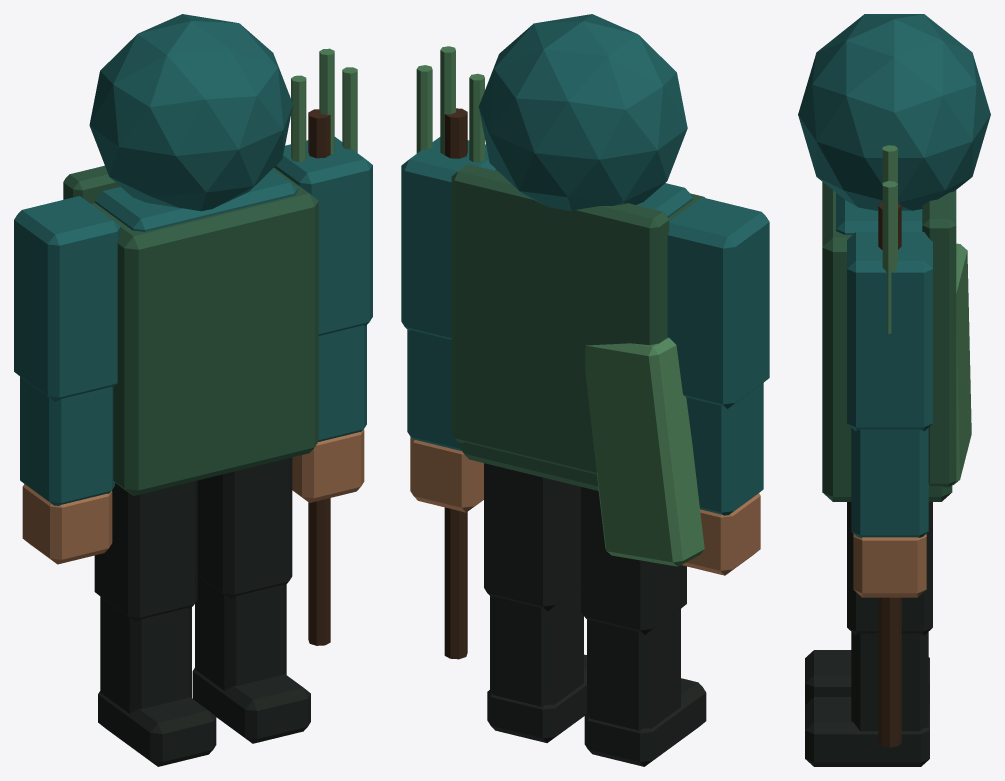
File: SellaGlowmereKeeper.glb
3 renders of one model, left to right at view 1: azimuth 30°, elevation 25°; view 2: azimuth 150°, elevation 25°; view 3: azimuth 270°, elevation 25°, orthographic. The views are drawn at different scales.
Visible parts, largest first — view 1: UpperTorso_Tunic, Head_Hood, LeftUpperArm, LeftUpperLeg, RightUpperLeg, RightUpperArm, LeftLowerArm, LeftLowerLeg, RightLowerLeg, LeftFoot, RightFoot, LeftHand (+8 smaller); view 2: UpperTorso_WetlandCape, Head_Hood, LowerTorso_ReedBundle, LeftUpperArm, RightUpperLeg, RightUpperArm, LeftLowerLeg, RightLowerLeg, LeftUpperLeg, LeftLowerArm, RightLowerArm, RightHand_ReedStaff (+9 smaller); view 3: Head_Hood, RightUpperArm, RightLowerArm, UpperTorso_Tunic, UpperTorso_WetlandCape, RightFoot, RightLowerLeg, RightHand, RightHand_ReedStaff, RightUpperLeg, LowerTorso_ReedBundle, LeftFoot (+3 smaller).
Part boxes in pixels (x1,y1,x2,y2): UpperTorso_Tunic: [91, 168, 318, 495]; Head_Hood: [89, 14, 292, 211]; LeftUpperArm: [14, 196, 120, 401]; LeftUpperLeg: [94, 480, 197, 622]; RightUpperLeg: [197, 457, 292, 599]; RightUpperArm: [274, 137, 372, 335]; LeftLowerArm: [20, 376, 114, 505]; LeftLowerLeg: [100, 596, 191, 713]; RightLowerLeg: [195, 575, 286, 690]; LeftFoot: [98, 691, 216, 766]; RightFoot: [192, 668, 310, 743]; LeftHand: [22, 484, 112, 564]; UpperTorso_WetlandCape: [451, 164, 669, 474]; Head_Hood: [478, 14, 687, 211]; LowerTorso_ReedBundle: [585, 337, 704, 566]; LeftUpperArm: [667, 197, 769, 408]; RightUpperLeg: [484, 463, 580, 611]; RightUpperArm: [401, 137, 497, 339]; LeftLowerLeg: [587, 609, 680, 730]; RightLowerLeg: [490, 587, 583, 706]; LeftUpperLeg: [581, 487, 686, 634]; LeftLowerArm: [686, 383, 763, 515]; RightLowerArm: [407, 330, 461, 450]; RightHand_ReedStaff: [444, 108, 467, 659]; Head_Hood: [798, 14, 990, 210]; RightUpperArm: [847, 232, 932, 431]; RightLowerArm: [851, 428, 928, 537]; UpperTorso_Tunic: [822, 182, 952, 501]; UpperTorso_WetlandCape: [922, 190, 956, 487]; RightFoot: [805, 697, 929, 766]; RightLowerLeg: [851, 632, 928, 731]; RightHand: [853, 534, 926, 597]; RightHand_ReedStaff: [878, 202, 901, 747]; RightUpperLeg: [847, 502, 932, 635]; LowerTorso_ReedBundle: [952, 243, 971, 485]; LeftFoot: [805, 650, 929, 704].
Bounding box in the file's own units: 4.27 × 8.75 × 2.15.
Materials: 1 (1 with a texture image).
